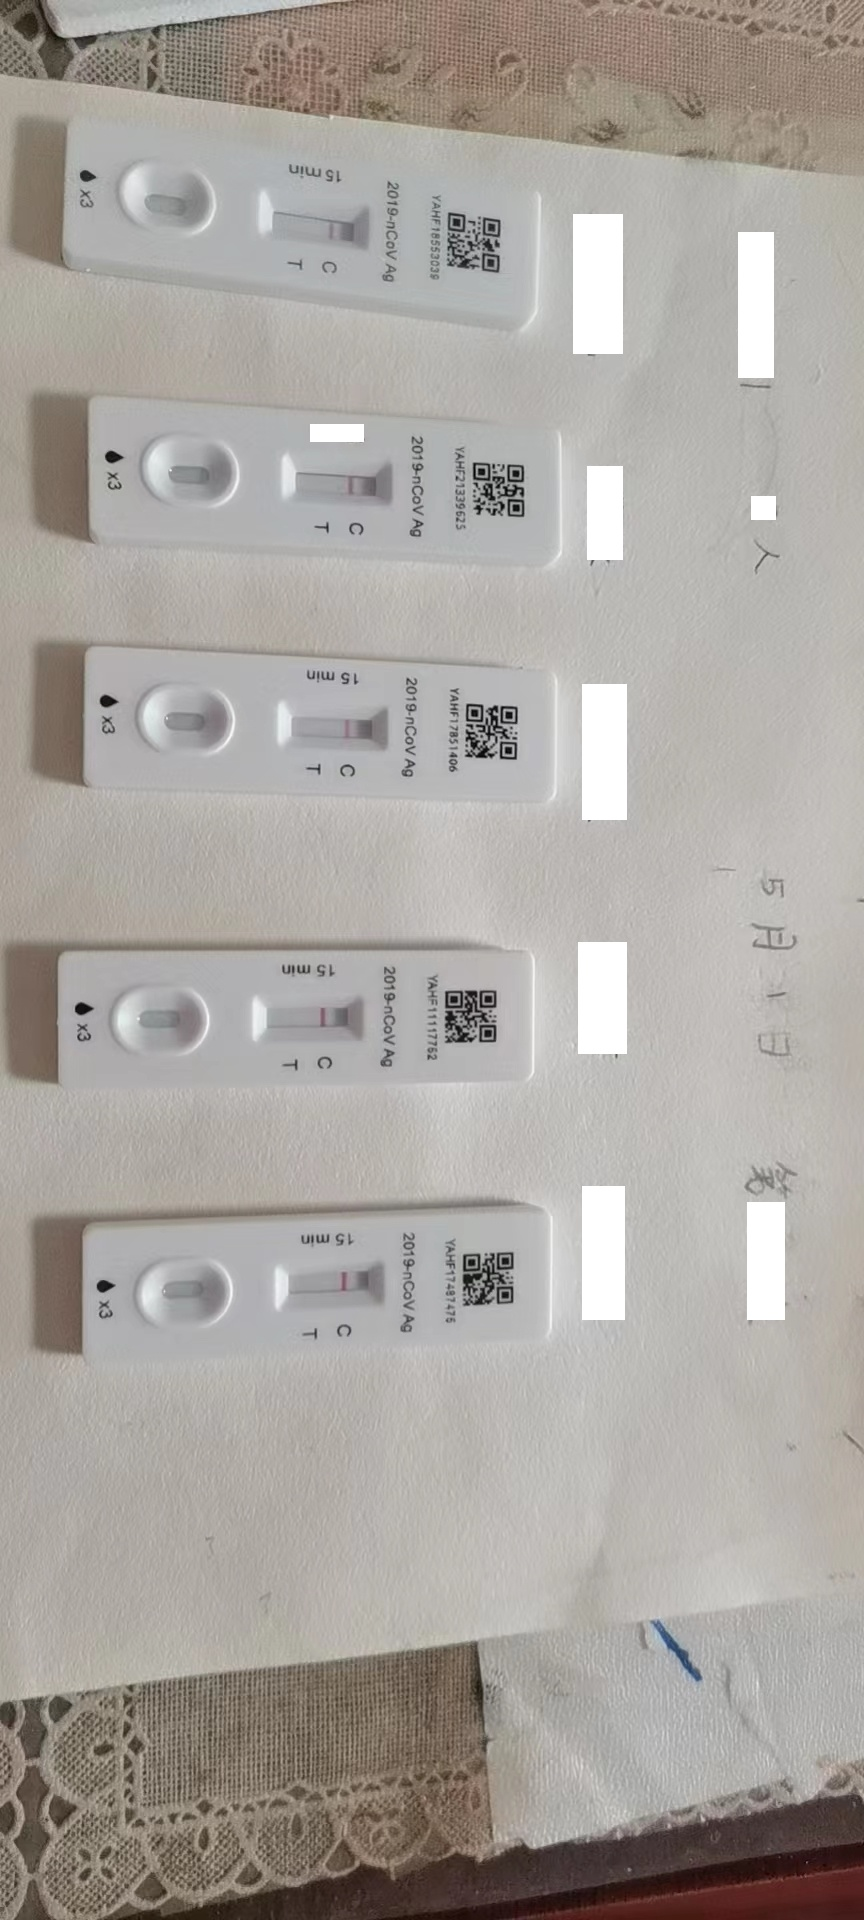negative: (274, 696, 390, 753), (277, 451, 390, 509), (250, 989, 367, 1046), (266, 193, 374, 245), (273, 1264, 384, 1308)
